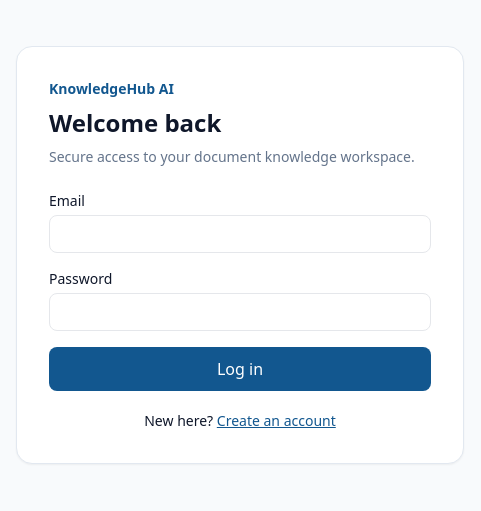
Test: renders safe invalid credential errors
Type "person@example.com" into the field labelled "Email" at (240, 234), box [49, 215, 431, 253]
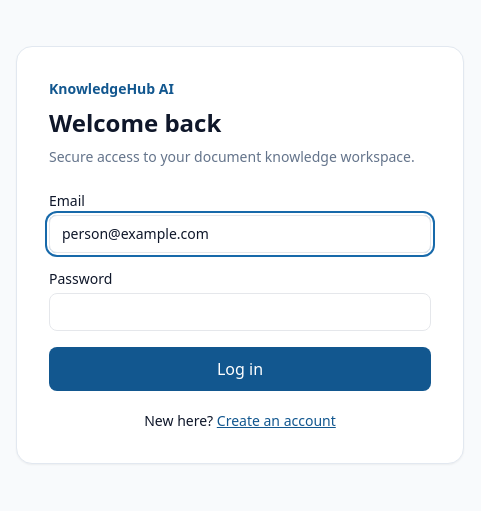
Type "wrong" into the password field labelled "Password" at (240, 312), box [49, 293, 431, 331]
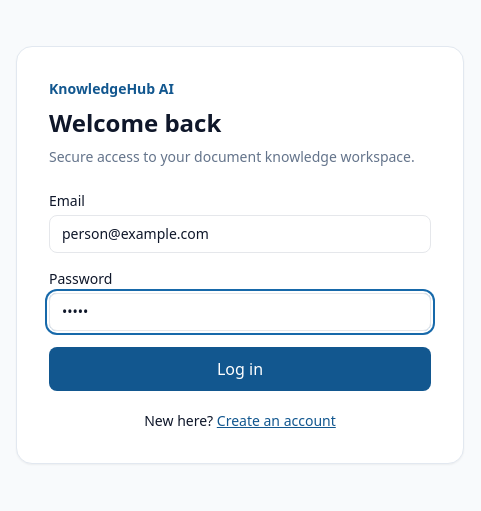
Click the button "Log in" at (240, 369), box [49, 347, 431, 391]
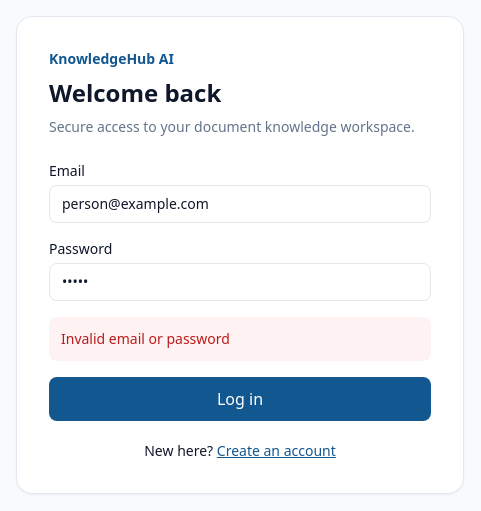
Expected: the message reads "Invalid email or password", [61, 329, 230, 348]
